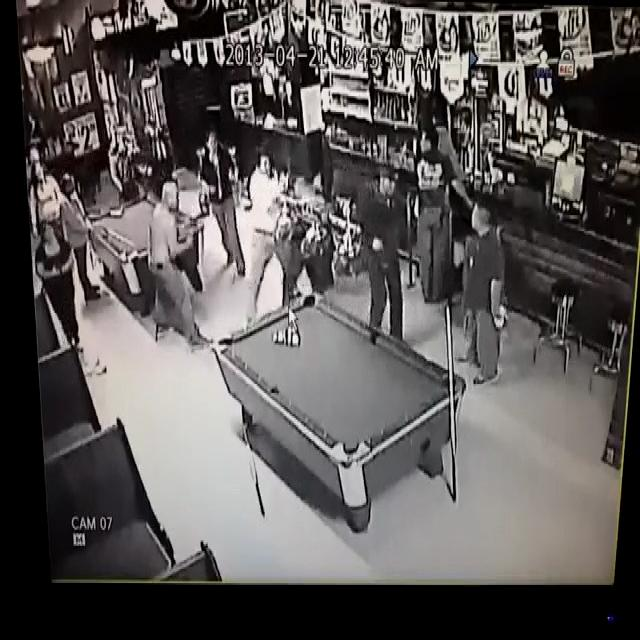fight: (245, 149, 280, 319)
